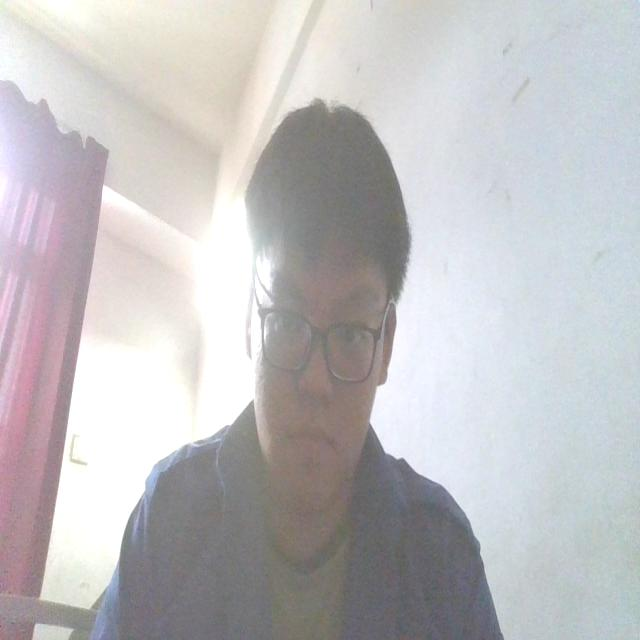person_with_labcoat: (92, 100, 502, 639)
